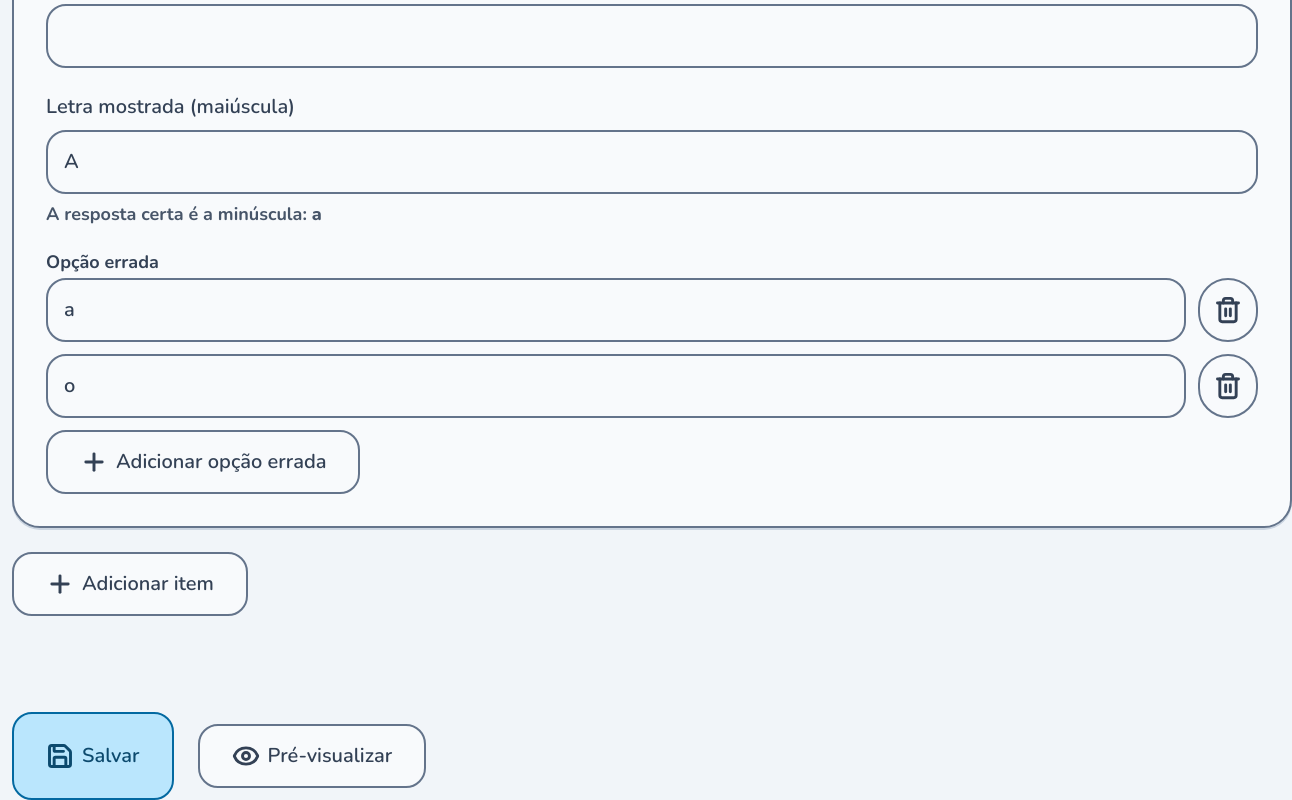
Test: ActivityEditor — validação antes de salvar › recusa opção errada igual à certa
The image size is (1292, 800).
(page scrolled)
Click the button "Salvar" at point(93, 756), box [12,712,174,799]
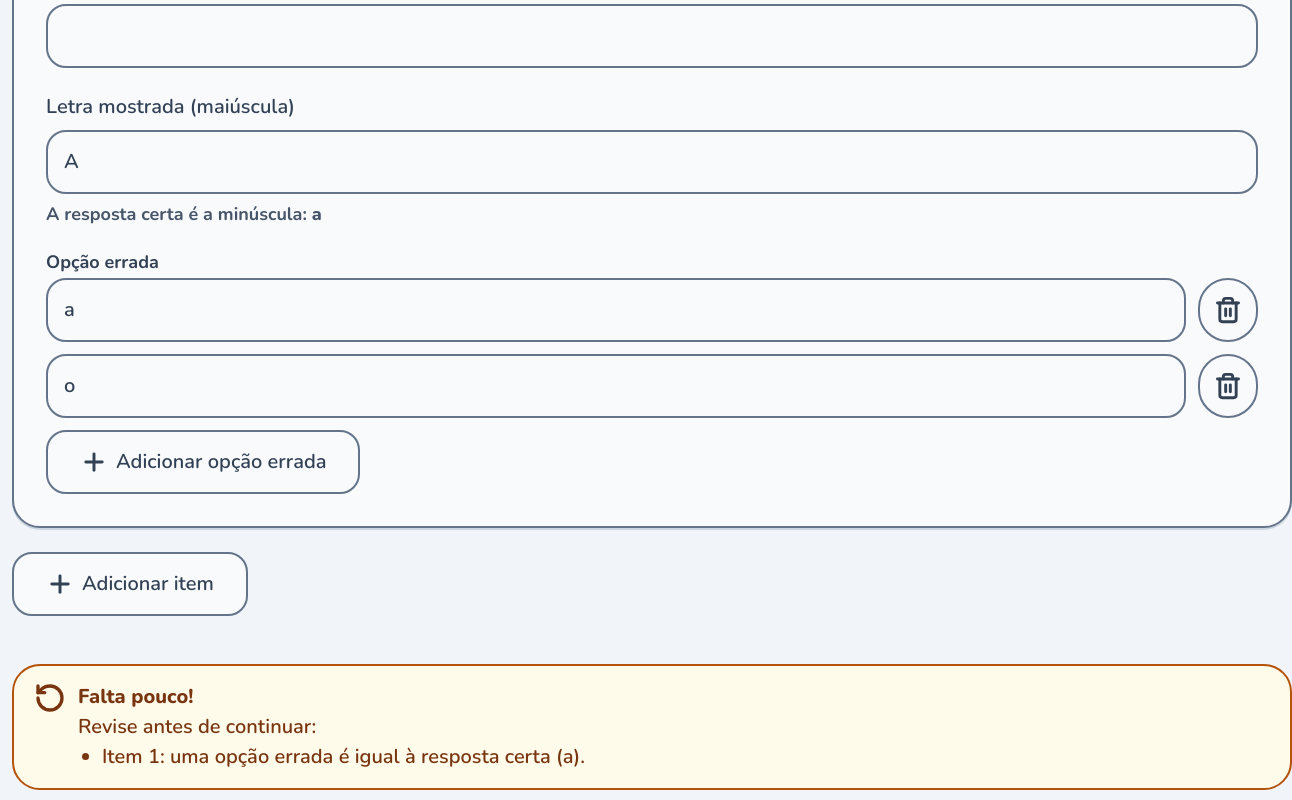
Check: the message shows "uma opção errada é igual à resposta certa (a)", box [102,743,585,770]
